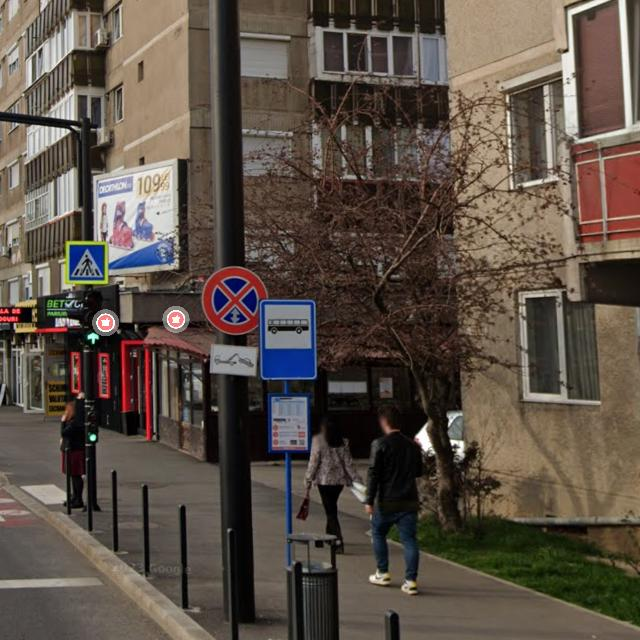forb_stopping: (201, 265, 268, 335)
info_bus_station: (260, 298, 316, 381)
info_crosswalk: (65, 240, 109, 284)
